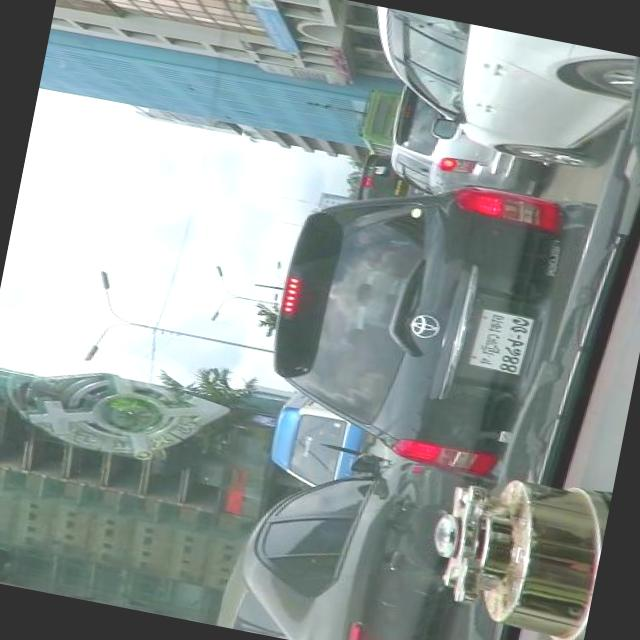bus: (352, 85, 406, 157)
car: (250, 150, 613, 498), (212, 421, 499, 640), (345, 3, 640, 178), (376, 81, 560, 219)
truck: (262, 384, 382, 499)
